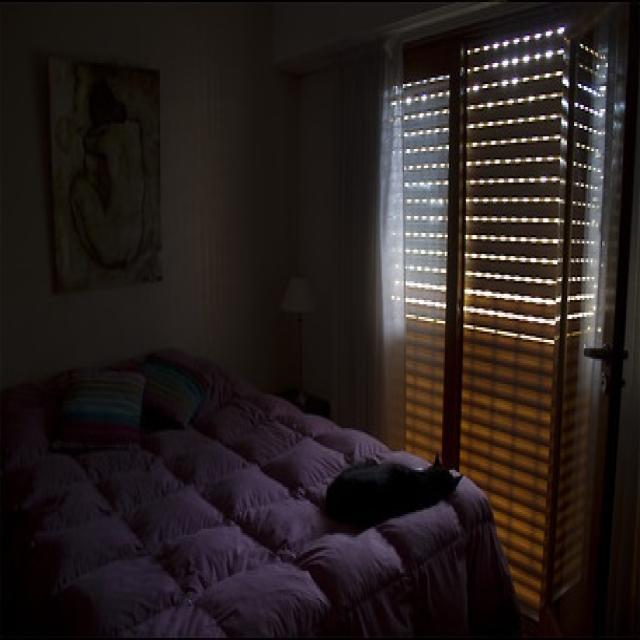Cat: (317, 442, 455, 564)
Table: (271, 356, 337, 437)
